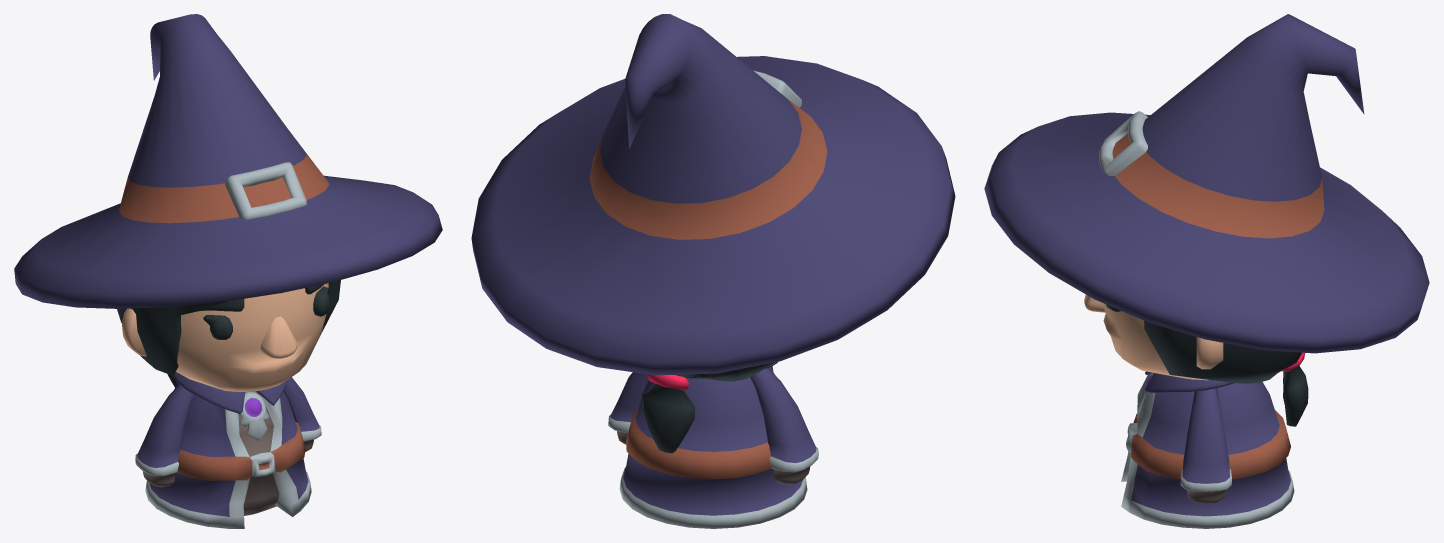
Rendered from mage.gltf.
3 renders of one model, left to right at view 1: azimuth 30°, elevation 25°; view 2: azimuth 150°, elevation 25°; view 3: azimuth 270°, elevation 25°, orthographic. The views are drawn at different scales.
Visible parts, largest first — view 1: character_mageHat, character_mageBody, character_mageHead, character_mageArmRight, character_mageHair, character_mageArnLeft; view 2: character_mageHat, character_mageBody, character_mageArmRight, character_mageHair, character_mageArnLeft; view 3: character_mageHat, character_mageBody, character_mageHair, character_mageArnLeft, character_mageHead.
Part boxes in pixels (x1,y1,x2,y2): character_mageHat: (14,14,442,308); character_mageBody: (145,372,311,528); character_mageHead: (122,283,329,391); character_mageArmRight: (135,384,194,487); character_mageHair: (117,280,340,387); character_mageArnLeft: (284,377,321,451); character_mageHat: (471,14,955,375); character_mageBody: (619,362,807,528); character_mageArmRight: (750,368,818,484); character_mageHair: (641,362,774,453); character_mageArnLeft: (608,372,648,444); character_mageHat: (984,14,1429,353); character_mageBody: (1121,371,1294,528); character_mageHair: (1144,320,1308,426); character_mageArnLeft: (1180,388,1231,503); character_mageHead: (1084,294,1223,380).
Bounding box in the file's own units: 2.1 × 2.44 × 2.05.
